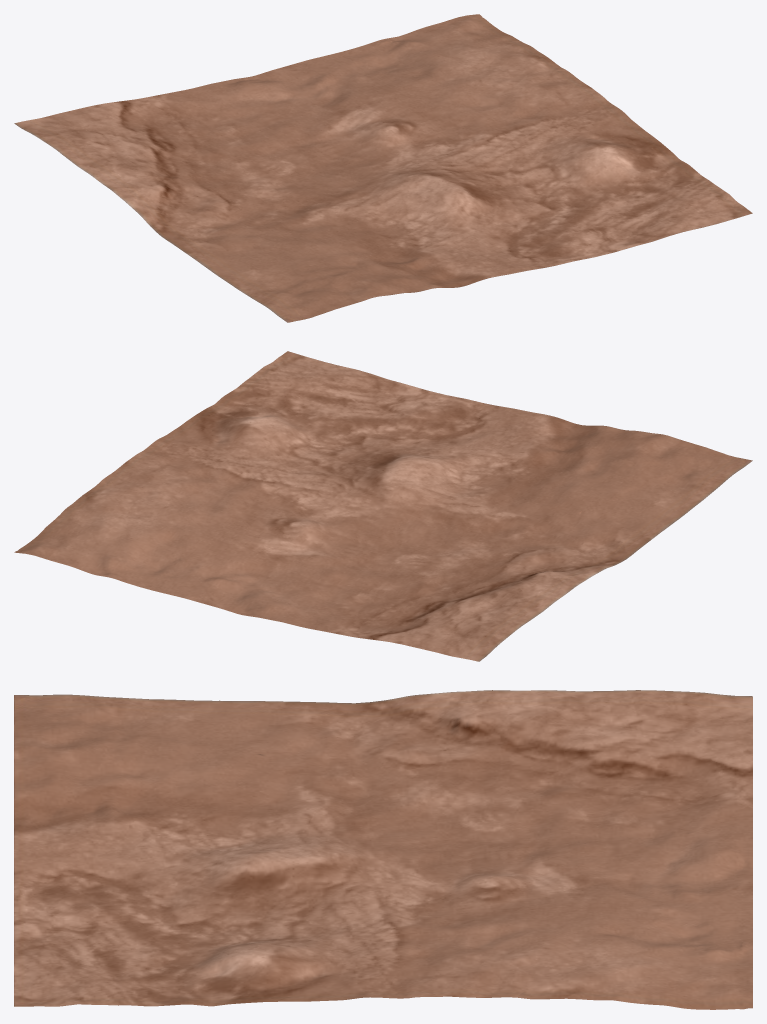
File: terrain_export_kimberley.dae
The picture shows the model from 3 angles, top to bottom: view 1: azimuth 30°, elevation 25°; view 2: azimuth 150°, elevation 25°; view 3: azimuth 270°, elevation 25°; orthographic projection. The views are drawn at different scales.
Visible parts, largest first — view 1: Kimberley_5; view 2: Kimberley_5; view 3: Kimberley_5.
Boxes of the visible parts, x1,y1,x2,y2 form: Kimberley_5: (14, 14, 752, 322); Kimberley_5: (14, 351, 752, 661); Kimberley_5: (14, 690, 752, 1009).
Bounding box in the file's own units: 158 × 161 × 6.48.
Materials: 1 (1 with a texture image).
